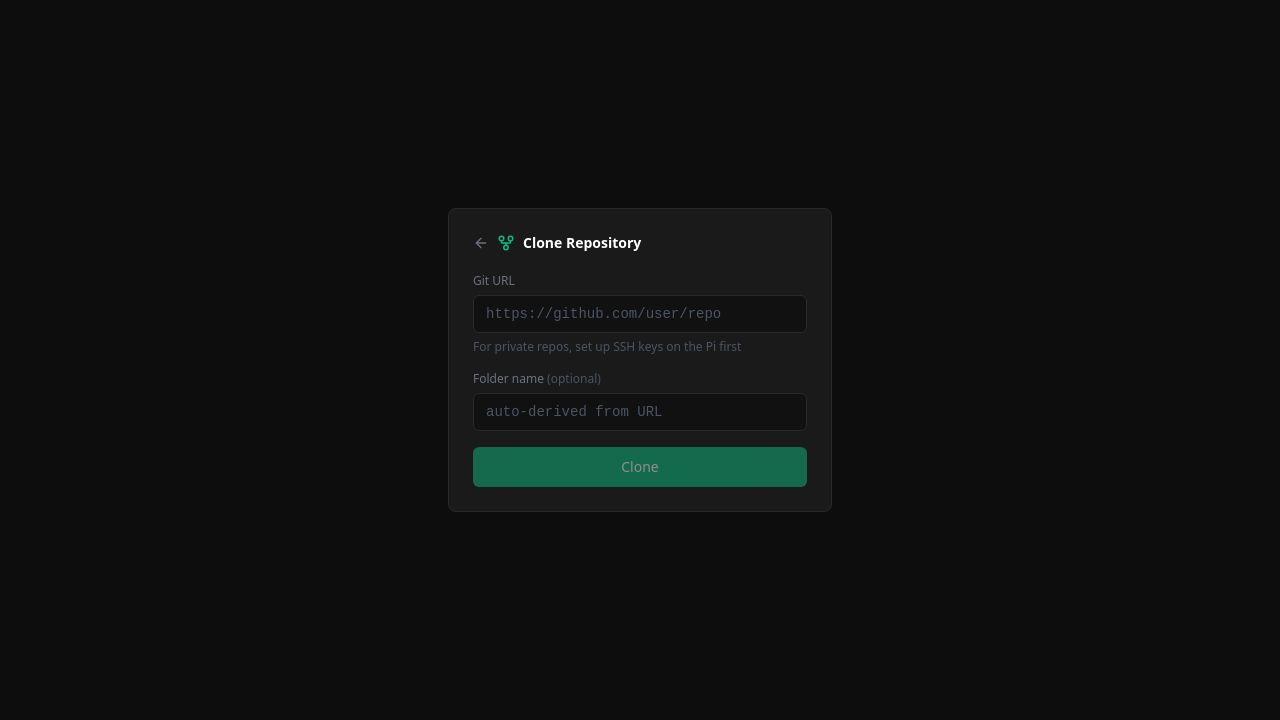
CloneDialog › enables Clone button when URL is entered
Type "https://github.com/user/my-repo" into the field with placeholder "https://github.com/user/repo" at [640, 314], box left=473, top=295, right=807, bottom=333
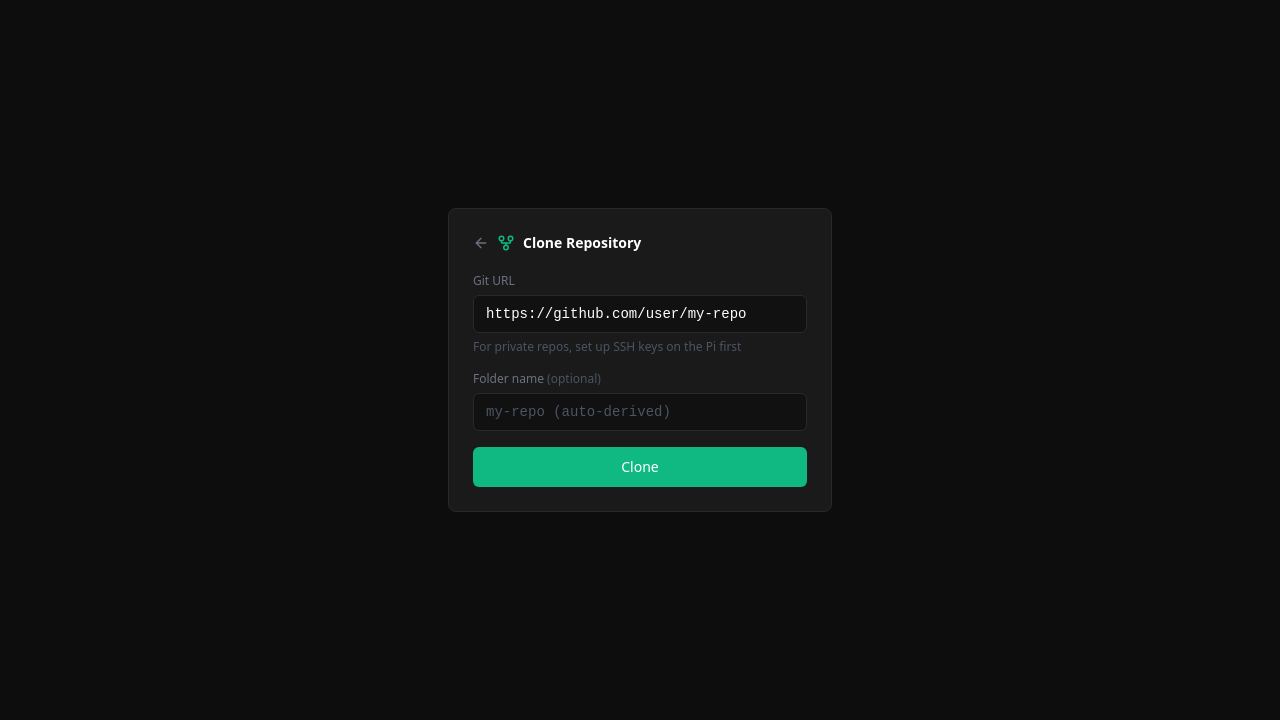
Check: the button "Clone" is enabled, box left=473, top=447, right=807, bottom=487
